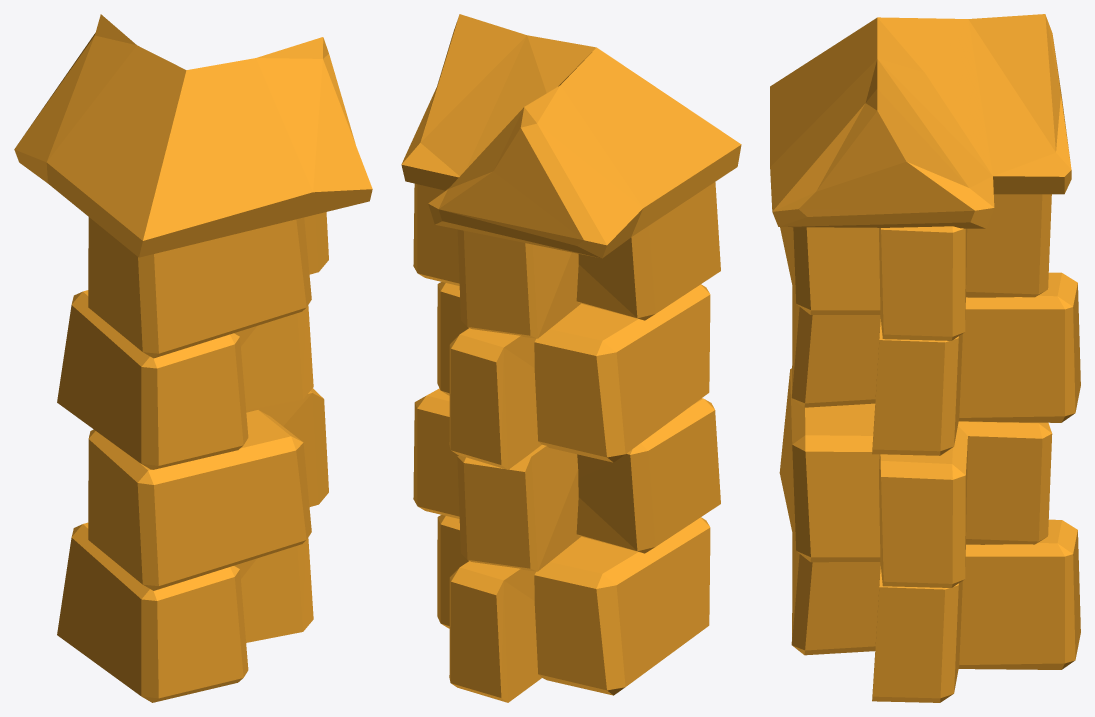
File: SM_Crenelations_Corner_A_Fantasy.fbx
3 renders of one model, left to right at view 1: azimuth 30°, elevation 25°; view 2: azimuth 150°, elevation 25°; view 3: azimuth 270°, elevation 25°, orthographic. The views are drawn at different scales.
Visible parts, largest first — view 1: SM_Crenelations_Corner_A_Fantasy; view 2: SM_Crenelations_Corner_A_Fantasy; view 3: SM_Crenelations_Corner_A_Fantasy.
Boxes of the visible parts, box(x1,y1,x2,y2) form: SM_Crenelations_Corner_A_Fantasy: box(14, 14, 372, 702); SM_Crenelations_Corner_A_Fantasy: box(401, 14, 741, 702); SM_Crenelations_Corner_A_Fantasy: box(770, 14, 1080, 702).
Bounding box in the file's own units: 0.8759 × 2.05 × 0.9184.
